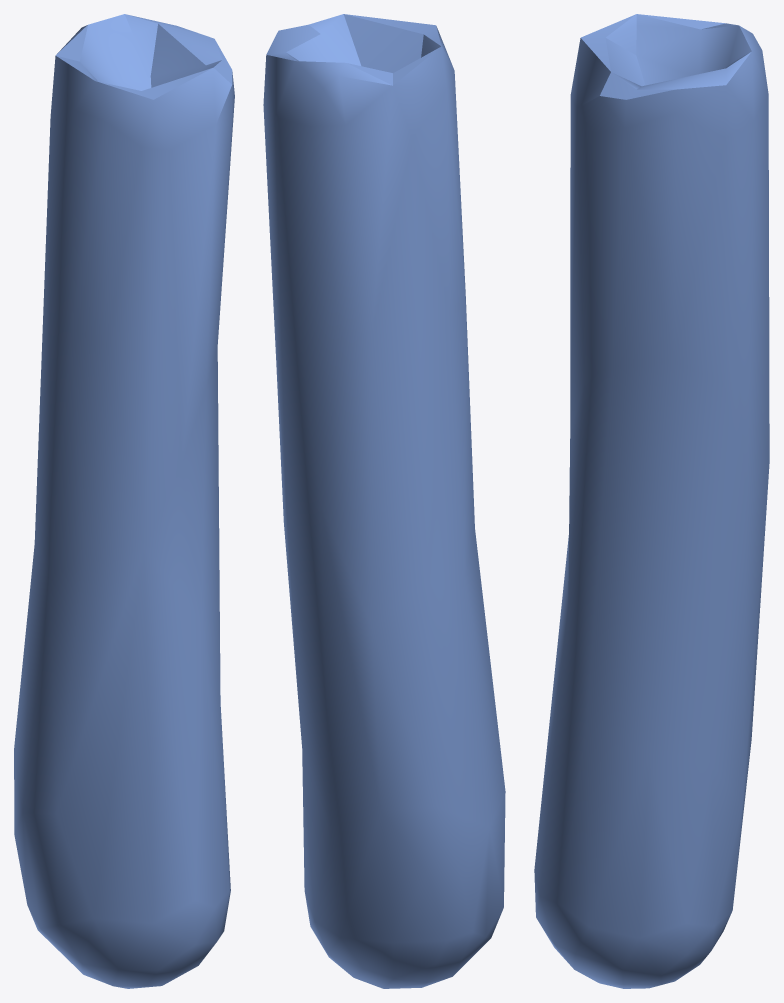
File: veines-cou.hi.glb
3 renders of one model, left to right at view 1: azimuth 30°, elevation 25°; view 2: azimuth 150°, elevation 25°; view 3: azimuth 270°, elevation 25°, orthographic. The views are drawn at different scales.
Visible parts, largest first — view 1: FJ3585; view 2: FJ3585; view 3: FJ3585.
Boxes of the visible parts, bbox=[...] form: FJ3585: bbox=[14, 14, 234, 988]; FJ3585: bbox=[263, 14, 505, 988]; FJ3585: bbox=[534, 14, 769, 988].
Bounding box in the file's own units: 0.00943 × 0.0413 × 0.00919.
